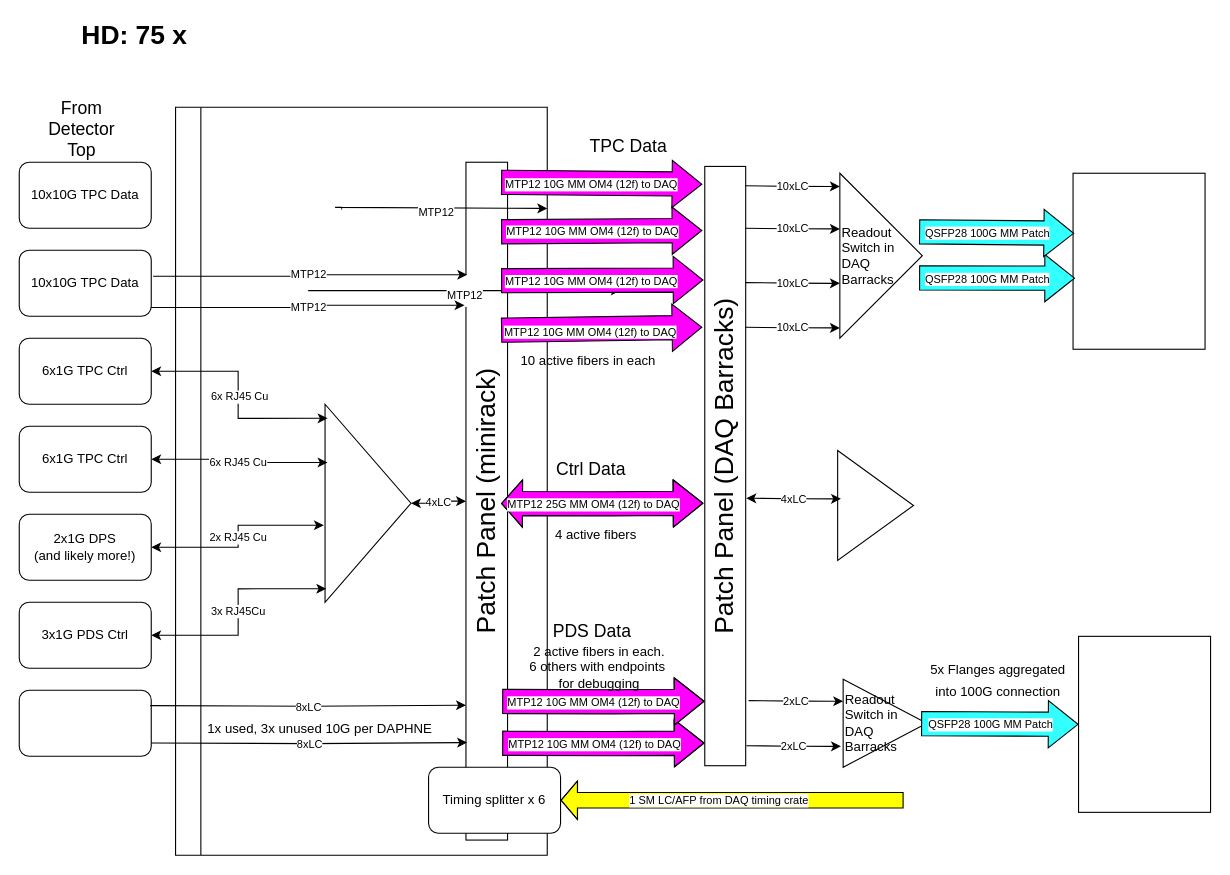
Some shapes in this 1230 by 875 pixel diagram are drawn without their labels. The box of each missing label's shape, as (x1, y1, x2, y2) in pixels:
2x10G PDS Data: (18, 689, 151, 756)
at least 17 ports eg, 2x 12-port DC 1G Detector Top Aggregating switches: (324, 403, 411, 602)
Ctrl network switch in DAQ Barracks: (837, 449, 914, 560)
Flange-minirack: (174, 106, 547, 855)
PDS Readout Server 4x100G inputs (reads out 20x Flange-miniracks): (1077, 635, 1211, 812)
TPC Readout Server 4x100G inputs (reads out 2x Flange-miniracks): (1072, 172, 1205, 349)
